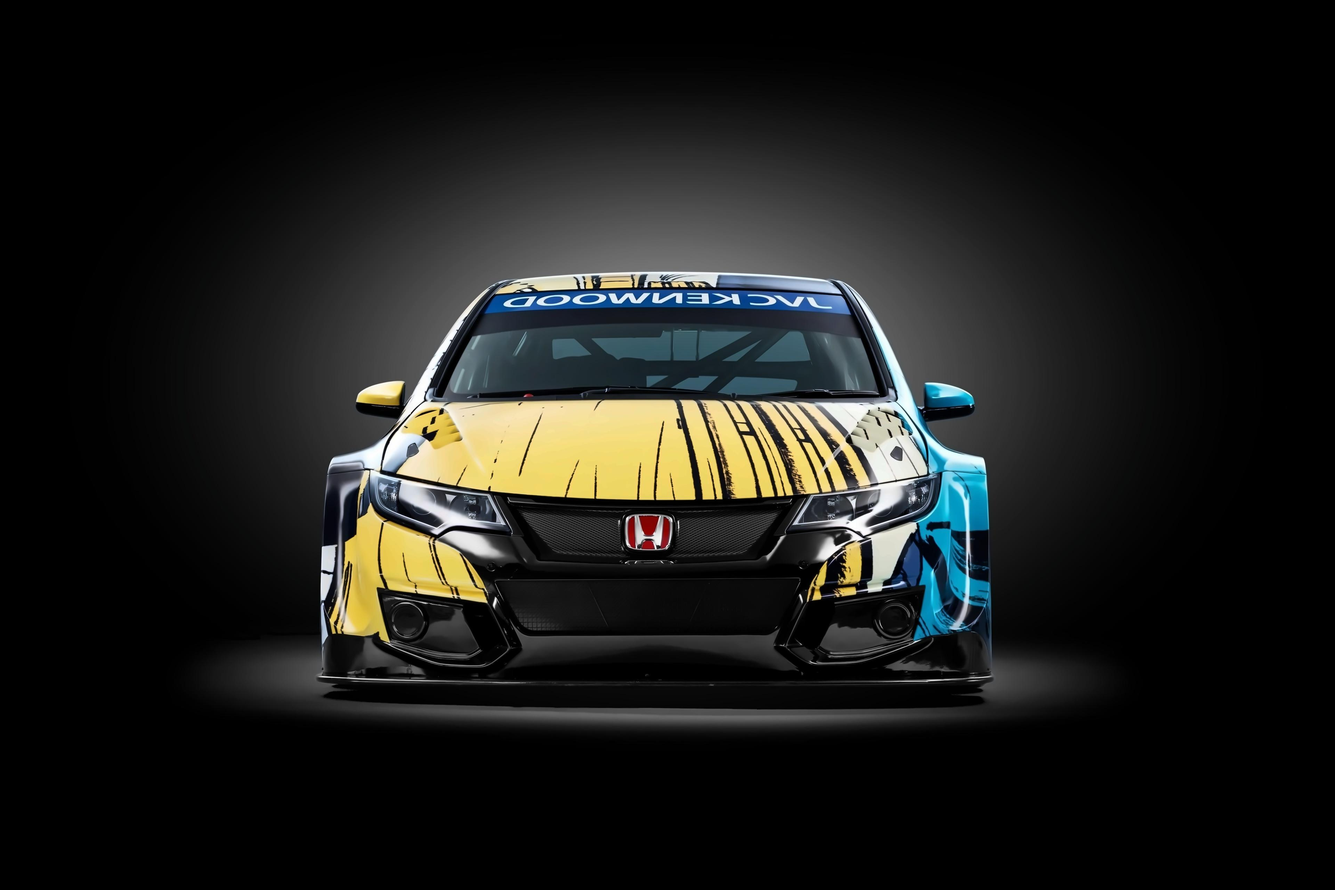Car hood: (378, 394, 933, 506)
Front bumper: (313, 507, 1001, 703)
Headlight - -L-: (781, 469, 947, 536)
Headlight - -R-: (363, 465, 519, 539)
Side mirror - -L-: (912, 377, 980, 422)
Side mirror - -R-: (354, 374, 423, 425)
